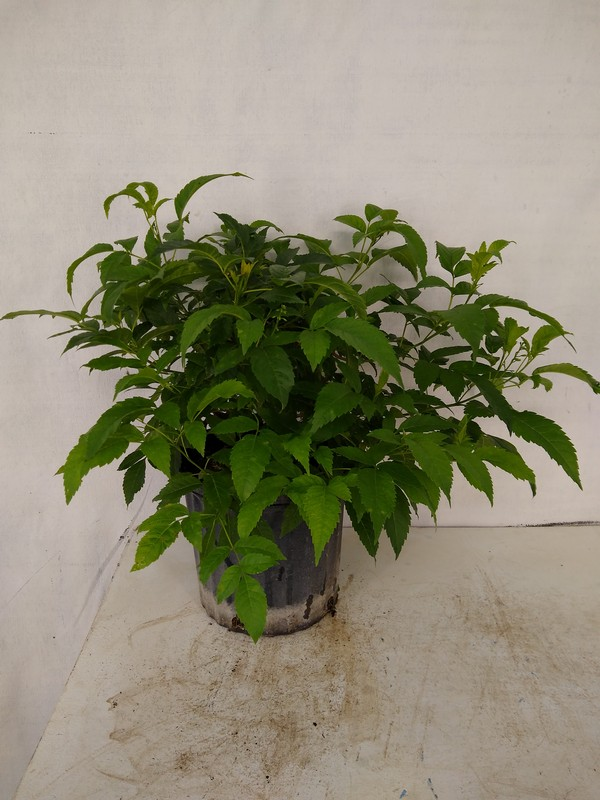plant: (4, 173, 600, 570)
pot: (182, 490, 347, 641)
